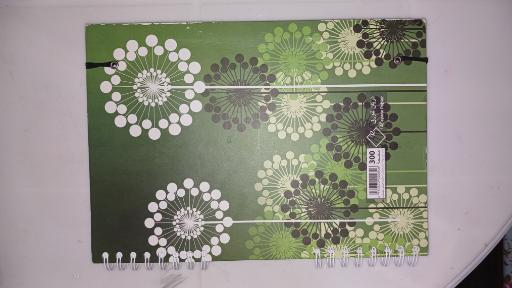notebook: (86, 22, 427, 270)
